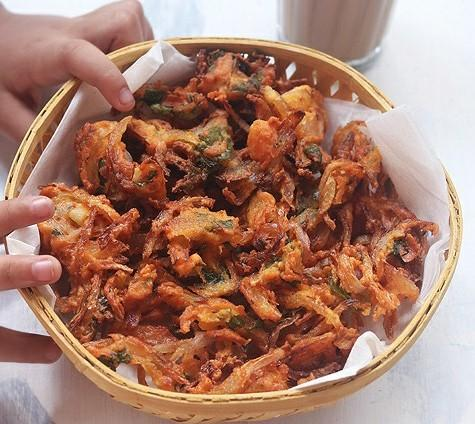OnionPakoda: (32, 44, 439, 392)
